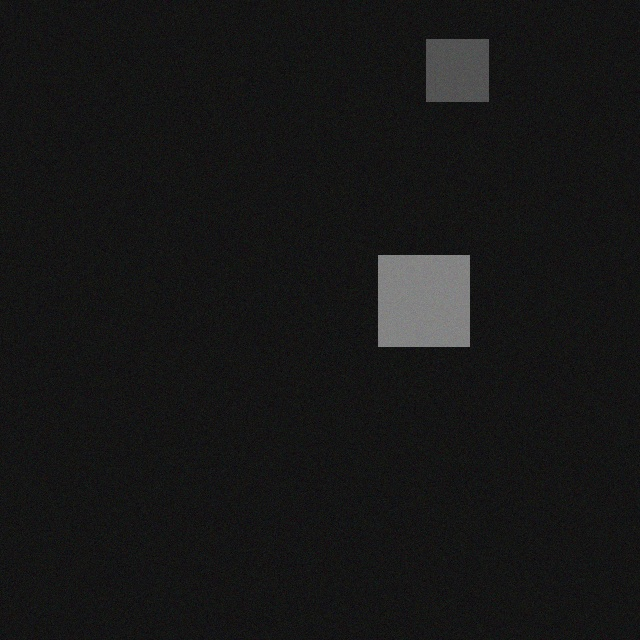square: (383, 244, 474, 335), (431, 28, 493, 90)
